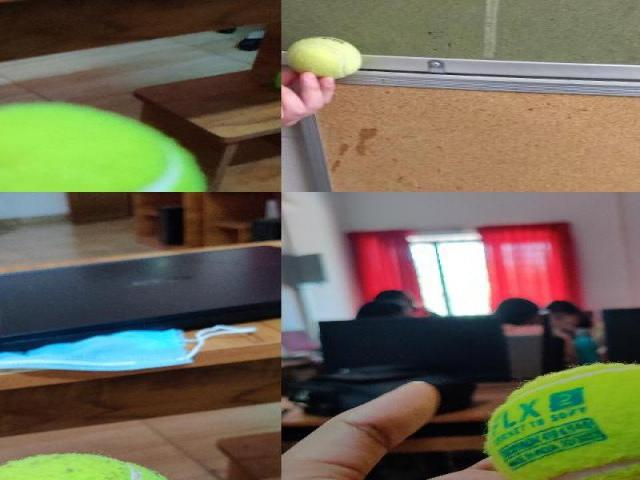tennis-ball: (0, 104, 201, 192), (486, 363, 638, 479), (1, 453, 166, 480), (284, 35, 360, 79)
